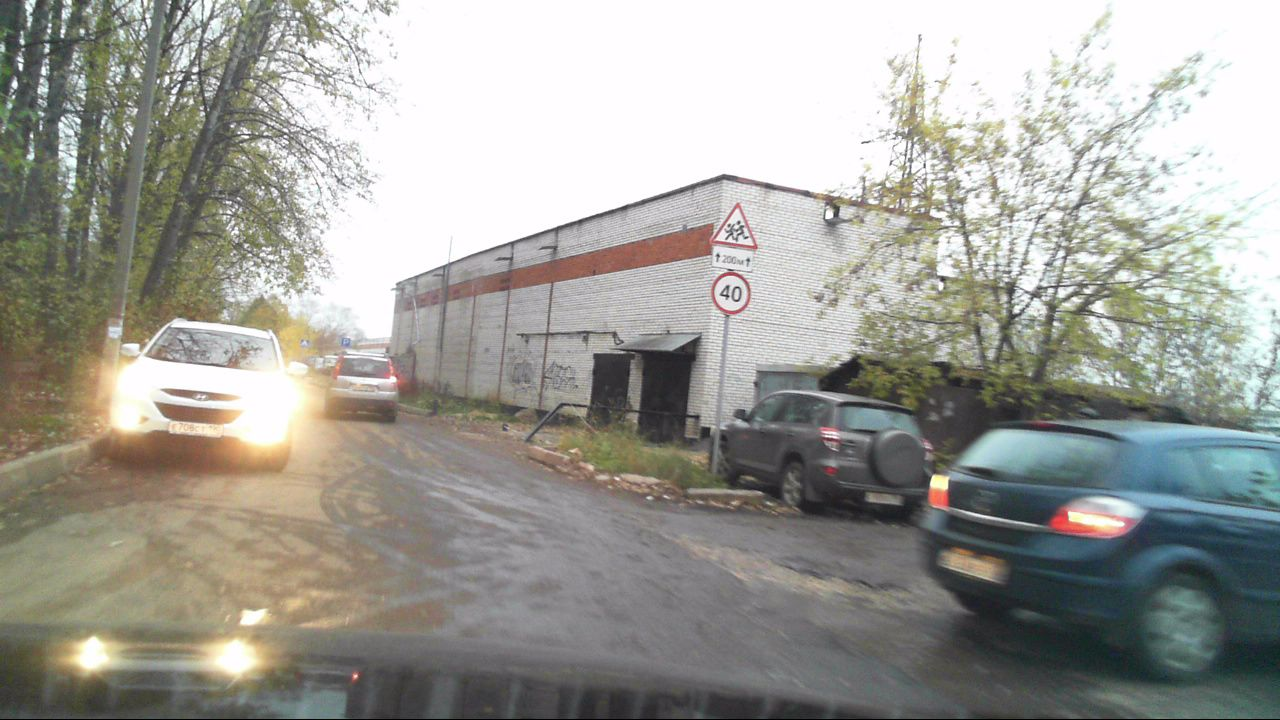speed_warning_40: (712, 274, 751, 312)
